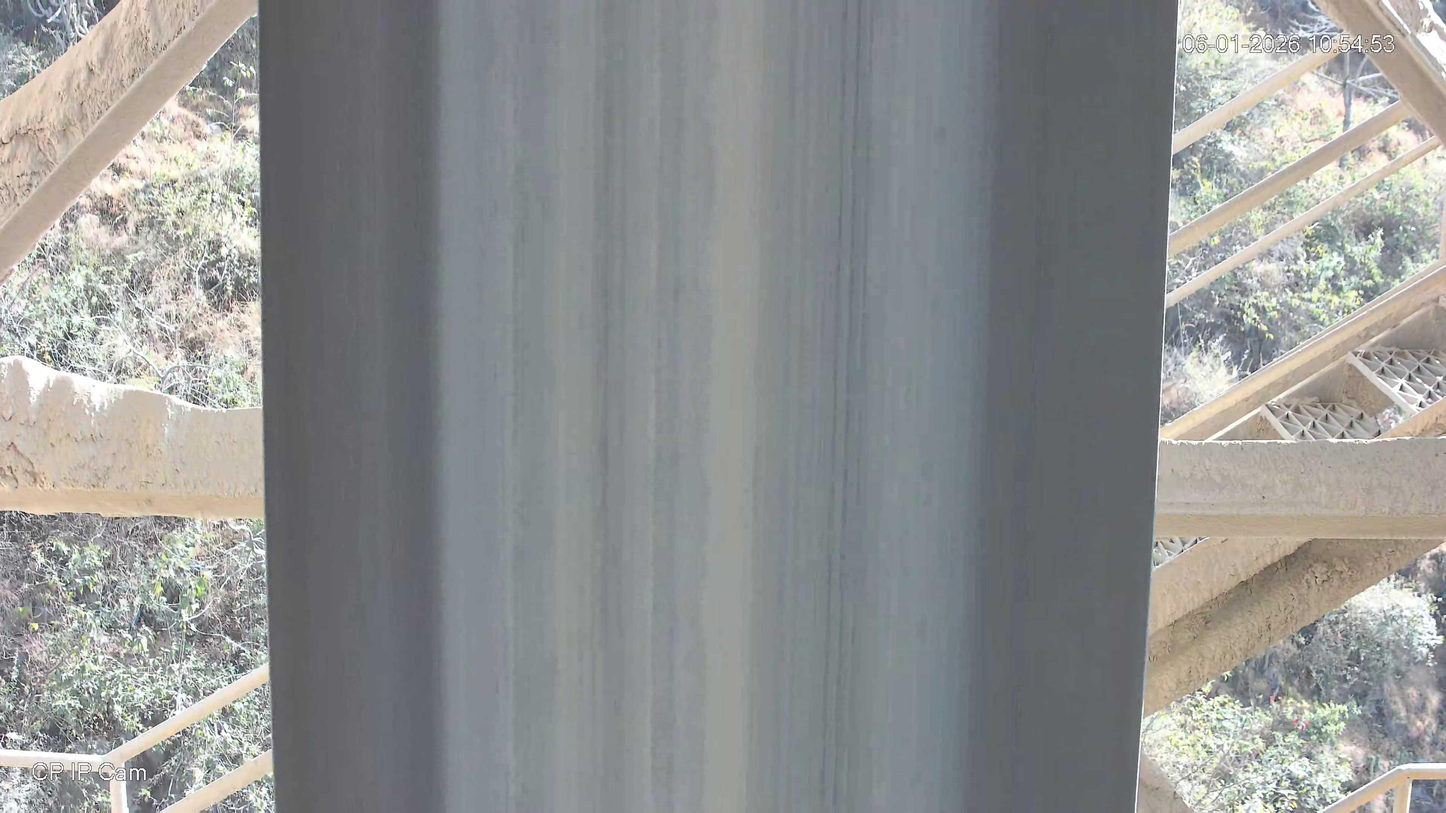belt_roi: (257, 0, 1180, 813)
